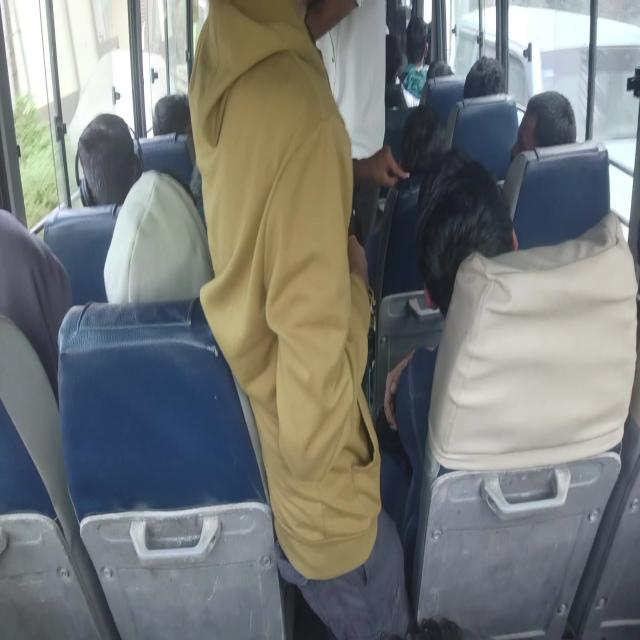person: (80, 110, 213, 306), (192, 1, 320, 142), (413, 150, 515, 320), (0, 206, 71, 410), (501, 141, 611, 251), (76, 122, 138, 205), (514, 89, 578, 152), (400, 100, 448, 177), (463, 55, 506, 100), (152, 92, 192, 138), (424, 59, 454, 83)
